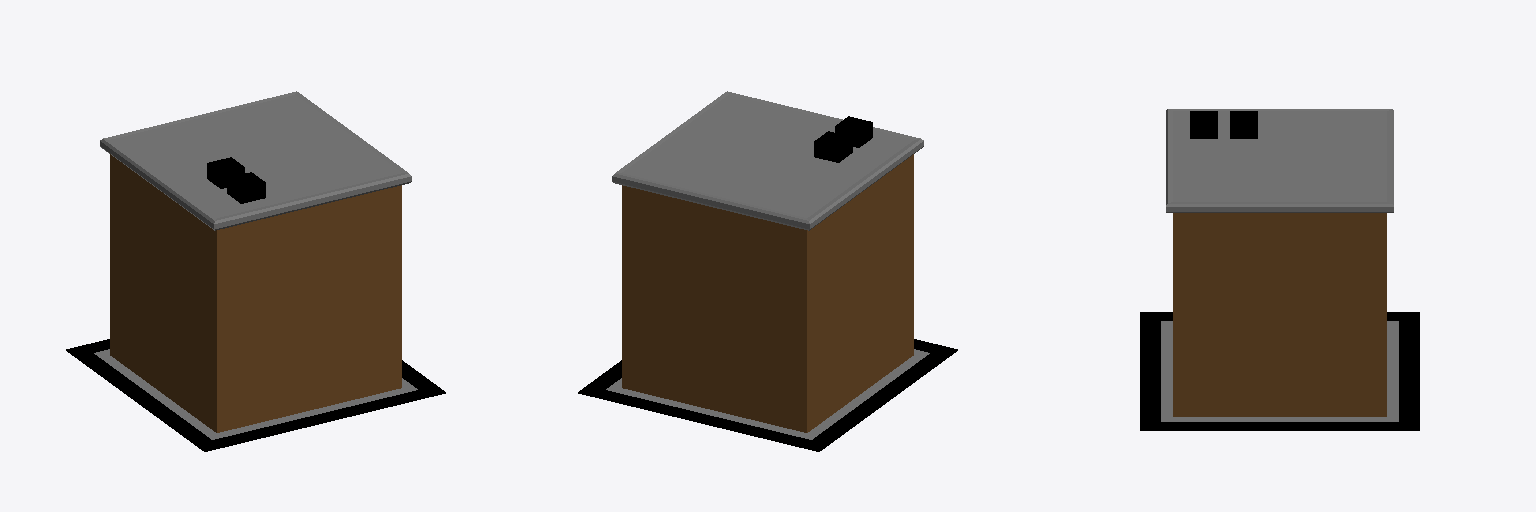
Rendered from bldg1.obj.
3 views of the same model, side by side, from view 1: azimuth 30°, elevation 25°; view 2: azimuth 150°, elevation 25°; view 3: azimuth 270°, elevation 25° (orthographic).
Parts seen in each view (by area): view 1: polySurface8; view 2: polySurface8; view 3: polySurface8.
Boxes of the visible parts, box(x1,y1,x2,y2) form: polySurface8: box(66, 91, 445, 451); polySurface8: box(578, 91, 957, 451); polySurface8: box(1140, 109, 1419, 430).
Size of the model in its own units: 10 by 9.1 by 10.